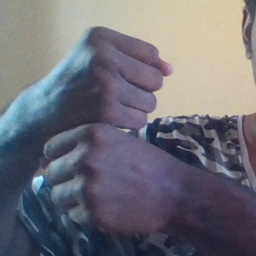G: (41, 21, 173, 237)
